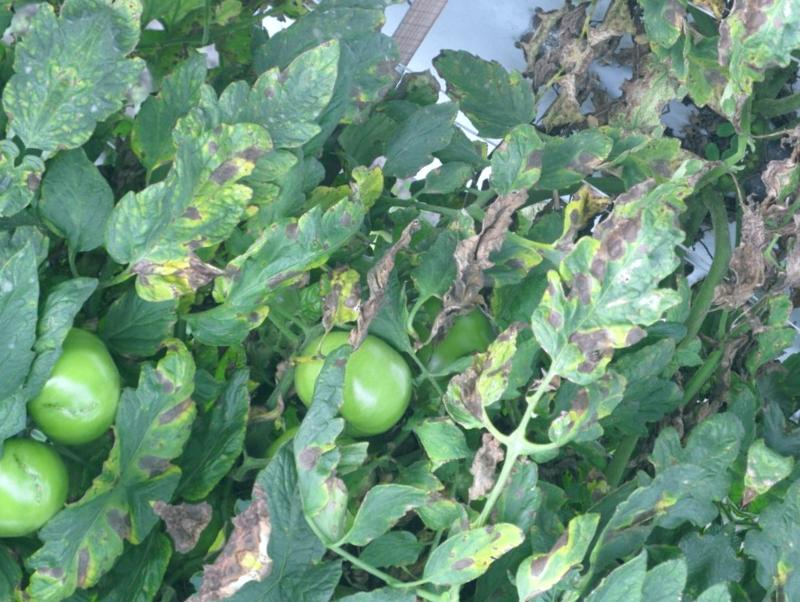Tomato Early blight leaf: (82, 72, 300, 330), (179, 118, 384, 389), (506, 139, 720, 396), (242, 341, 423, 545), (24, 0, 187, 182), (86, 329, 244, 502), (425, 316, 547, 444), (539, 335, 644, 464), (417, 483, 523, 602), (505, 497, 607, 602), (474, 109, 565, 206)
